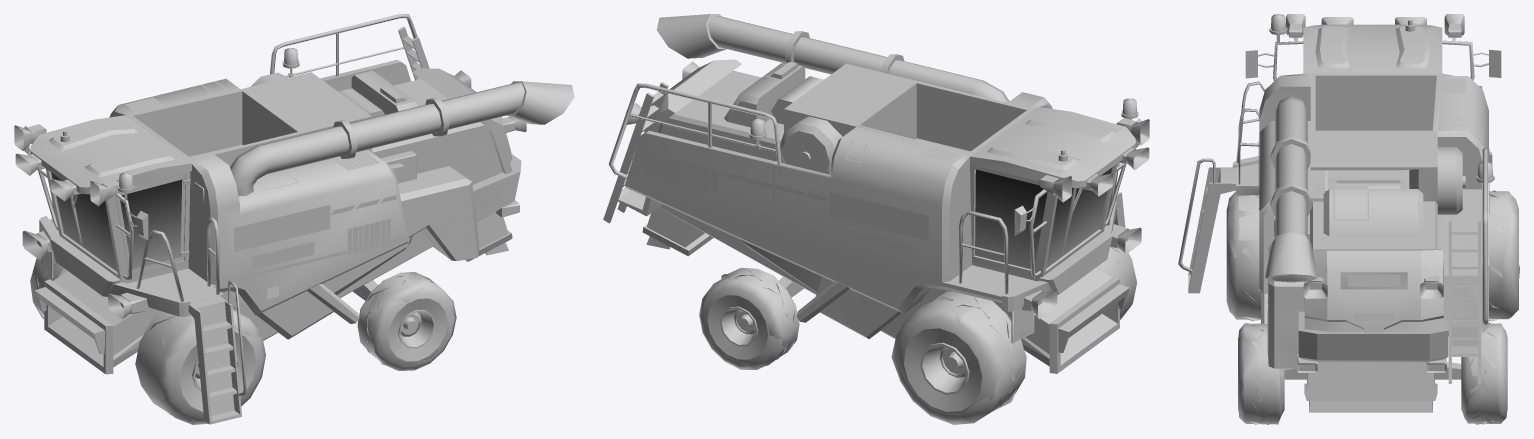
Rendered from TFP_Combine_01A.fbx.
3 views of the same model, side by side, from view 1: azimuth 30°, elevation 25°; view 2: azimuth 150°, elevation 25°; view 3: azimuth 270°, elevation 25° (orthographic). The views are drawn at different scales.
Visible parts, largest first — view 1: TFP_Combine_01A_Body_LOD0, TFP_Combine_01A_Unloading_Tube_LOD0, TFP_Combine_01A_Header_LOD0, TFP_Combine_01A_Wheel_R.L_LOD0, TFP_Combine_01A_Door_LOD0, TFP_Combine_01A_Logos_LOD0, TFP_Combine_01A_Wheel_F.L_LOD0, TFP_Combine_01A_Wheel_Dirt_F.L, TFP_Combine_01A_Wheel_Dirt_R.L, TFP_Combine_01A_Lights_LOD0, TFP_Combine_01A_Wheel_Dirt_F.R; view 2: TFP_Combine_01A_Body_LOD0, TFP_Combine_01A_Unloading_Tube_LOD0, TFP_Combine_01A_Wheel_F.R_LOD0, TFP_Combine_01A_Header_LOD0, TFP_Combine_01A_Wheel_Dirt_F.R, TFP_Combine_01A_Wheel_R.R_LOD0, TFP_Combine_01A_Logos_LOD0, TFP_Combine_01A_Wheel_Dirt_R.R, TFP_Combine_01A_Lights_LOD0, TFP_Combine_01A_Wheel_Dirt_F.L; view 3: TFP_Combine_01A_Body_LOD0, TFP_Combine_01A_Unloading_Tube_LOD0, TFP_Combine_01A_Wheel_Dirt_R.L, TFP_Combine_01A_Wheel_F.L_LOD0, TFP_Combine_01A_Wheel_Dirt_F.R, TFP_Combine_01A_Wheel_Dirt_R.R, TFP_Combine_01A_Lights_LOD0, TFP_Combine_01A_Wheel_R.R_LOD0, TFP_Combine_01A_Wheel_Dirt_F.L, TFP_Combine_01A_Logos_LOD0, TFP_Combine_01A_Wheel_F.R_LOD0, TFP_Combine_01A_Wheel_R.L_LOD0.
Part boxes in pixels (x1,y1,x2,y2): TFP_Combine_01A_Body_LOD0: (24, 14, 521, 424); TFP_Combine_01A_Unloading_Tube_LOD0: (230, 81, 574, 196); TFP_Combine_01A_Header_LOD0: (35, 271, 160, 374); TFP_Combine_01A_Wheel_R.L_LOD0: (360, 275, 452, 370); TFP_Combine_01A_Door_LOD0: (115, 175, 185, 273); TFP_Combine_01A_Logos_LOD0: (66, 198, 439, 283); TFP_Combine_01A_Wheel_F.L_LOD0: (142, 303, 265, 423); TFP_Combine_01A_Wheel_Dirt_F.L: (135, 309, 263, 424); TFP_Combine_01A_Wheel_Dirt_R.L: (357, 272, 456, 370); TFP_Combine_01A_Lights_LOD0: (14, 70, 526, 319); TFP_Combine_01A_Wheel_Dirt_F.R: (30, 257, 67, 319); TFP_Combine_01A_Body_LOD0: (603, 59, 1141, 343); TFP_Combine_01A_Unloading_Tube_LOD0: (656, 14, 1009, 102); TFP_Combine_01A_Wheel_F.R_LOD0: (896, 295, 1022, 413); TFP_Combine_01A_Header_LOD0: (993, 267, 1129, 373); TFP_Combine_01A_Wheel_Dirt_F.R: (891, 291, 1026, 424); TFP_Combine_01A_Wheel_R.R_LOD0: (699, 270, 796, 369); TFP_Combine_01A_Logos_LOD0: (829, 192, 1097, 280); TFP_Combine_01A_Wheel_Dirt_R.R: (700, 267, 799, 369); TFP_Combine_01A_Lights_LOD0: (625, 61, 1149, 318); TFP_Combine_01A_Wheel_Dirt_F.L: (1096, 247, 1137, 319); TFP_Combine_01A_Body_LOD0: (1178, 14, 1501, 412); TFP_Combine_01A_Unloading_Tube_LOD0: (1265, 96, 1317, 282); TFP_Combine_01A_Wheel_Dirt_R.L: (1238, 323, 1283, 424); TFP_Combine_01A_Wheel_F.L_LOD0: (1226, 195, 1260, 321); TFP_Combine_01A_Wheel_Dirt_F.R: (1489, 191, 1519, 319); TFP_Combine_01A_Wheel_Dirt_R.R: (1463, 323, 1507, 423); TFP_Combine_01A_Lights_LOD0: (1286, 14, 1464, 298); TFP_Combine_01A_Wheel_R.R_LOD0: (1461, 323, 1507, 424); TFP_Combine_01A_Wheel_Dirt_F.L: (1227, 191, 1259, 319); TFP_Combine_01A_Logos_LOD0: (1258, 141, 1489, 320); TFP_Combine_01A_Wheel_F.R_LOD0: (1489, 190, 1518, 321); TFP_Combine_01A_Wheel_R.L_LOD0: (1238, 324, 1284, 424).
Size of what is drawn, in the model's own units: 10.2 by 5.03 by 5.85.
